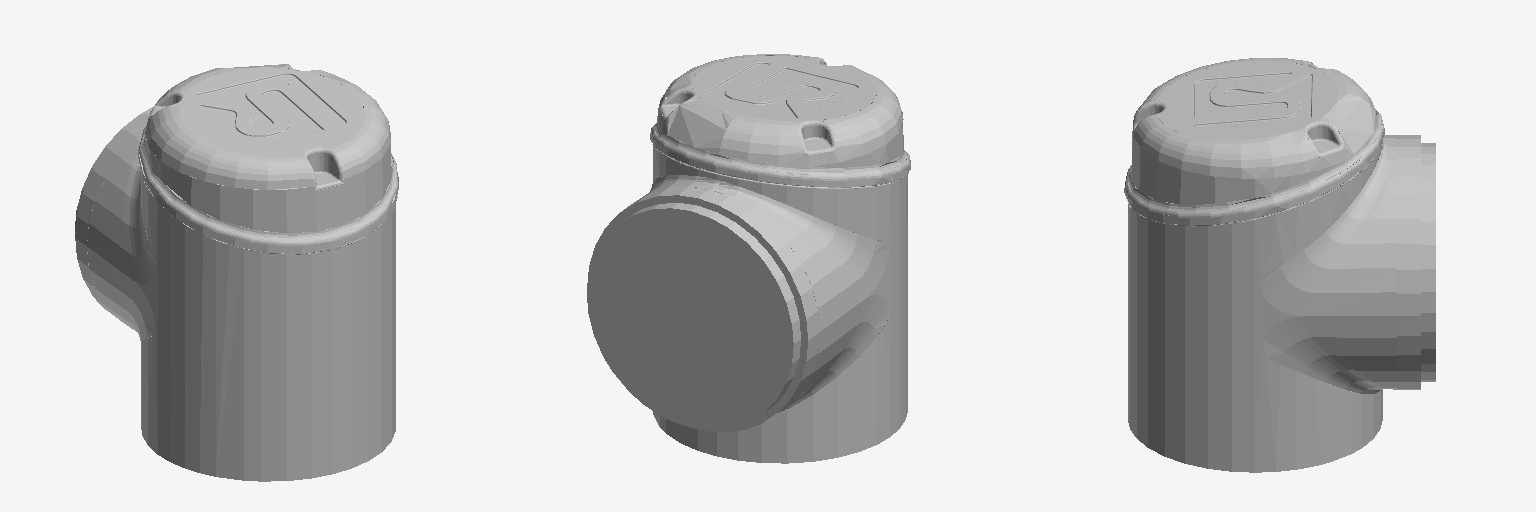
File: WRIST2_m.obj
3 views of the same model, side by side, from view 1: azimuth 30°, elevation 25°; view 2: azimuth 150°, elevation 25°; view 3: azimuth 270°, elevation 25° (orthographic).
Bounding box in the file's own units: 0.0644 × 0.0887 × 0.0768.